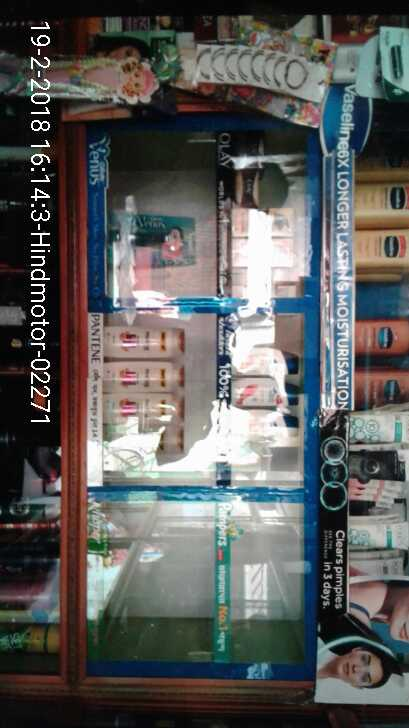venus: (108, 212, 196, 274)
